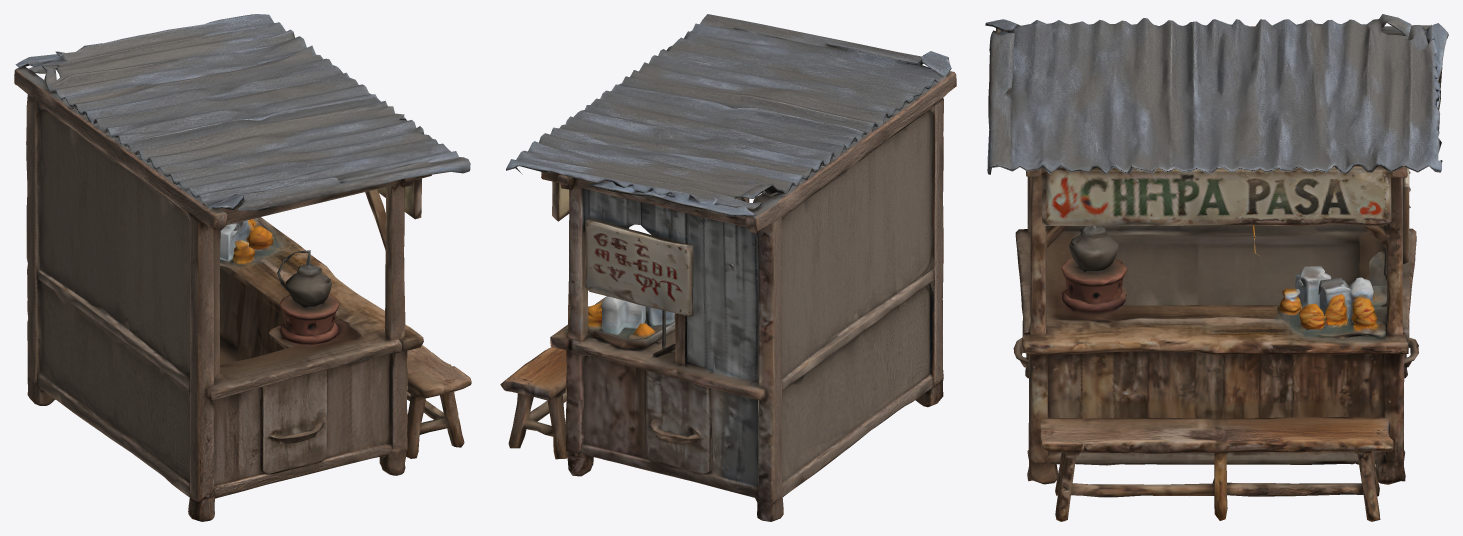
File: chiya_pasal.glb
3 views of the same model, side by side, from view 1: azimuth 30°, elevation 25°; view 2: azimuth 150°, elevation 25°; view 3: azimuth 270°, elevation 25° (orthographic). The views are drawn at different scales.
Parts seen in each view (by area): view 1: tripo_node_35672091-fbea-4075-a35e-cea87c64a542; view 2: tripo_node_35672091-fbea-4075-a35e-cea87c64a542; view 3: tripo_node_35672091-fbea-4075-a35e-cea87c64a542.
Part boxes in pixels (x1,y1,x2,y2): tripo_node_35672091-fbea-4075-a35e-cea87c64a542: [14, 14, 471, 521]; tripo_node_35672091-fbea-4075-a35e-cea87c64a542: [500, 14, 956, 521]; tripo_node_35672091-fbea-4075-a35e-cea87c64a542: [985, 14, 1448, 521].
Bounding box in the file's own units: 1.59 × 1.8 × 2.07.
Materials: 1 (1 with a texture image).
